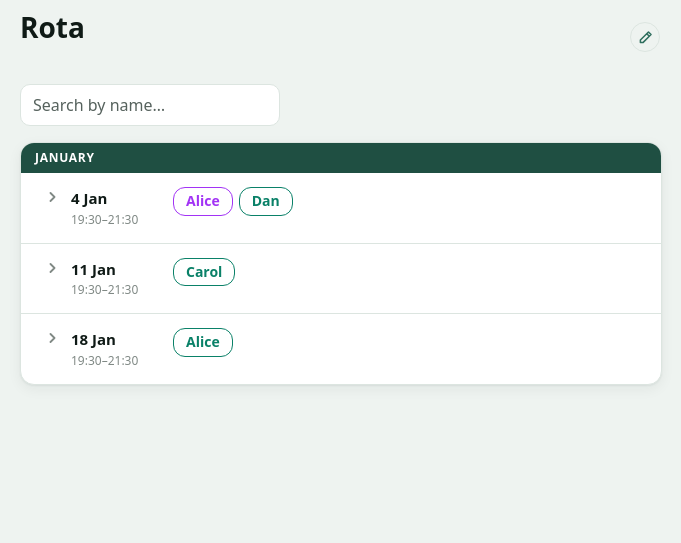
Test: RotaViewer placement › Escape cancels an in-flight pick, taking every destination affordance with it
Click the button named "Edit rota" at (645, 37), box [630,22,660,52]
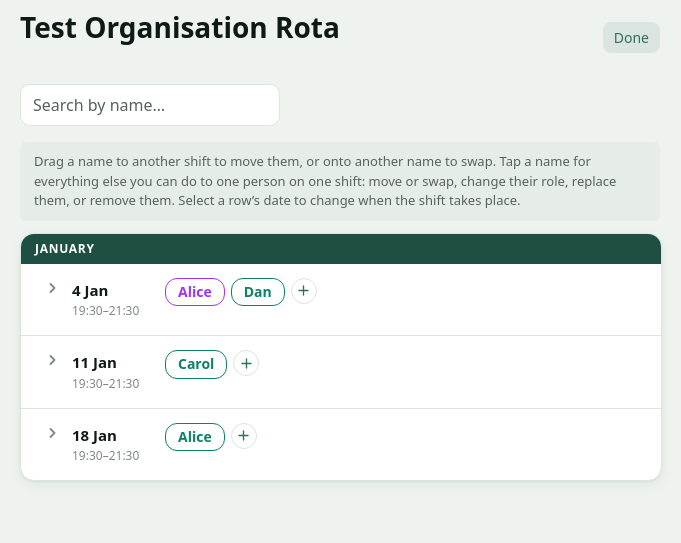
Click the button with aria-label "Alice, change this shift" at (195, 292), box [165,278,225,306]
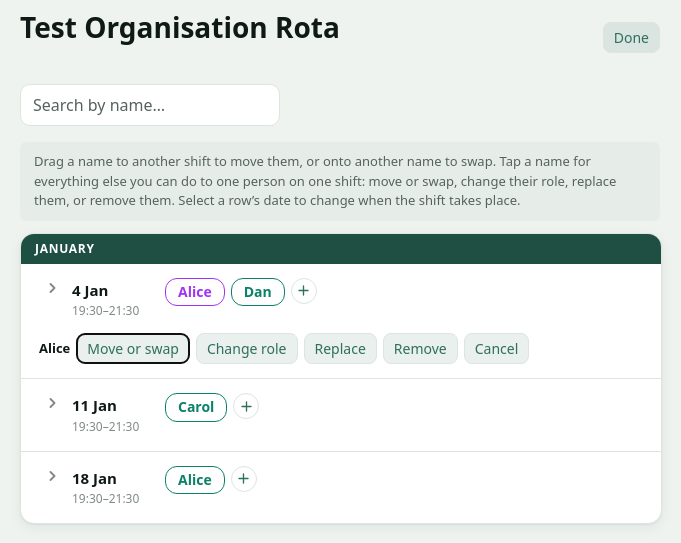
Click the button "Move or swap" at (133, 348), box [76,333,190,364]
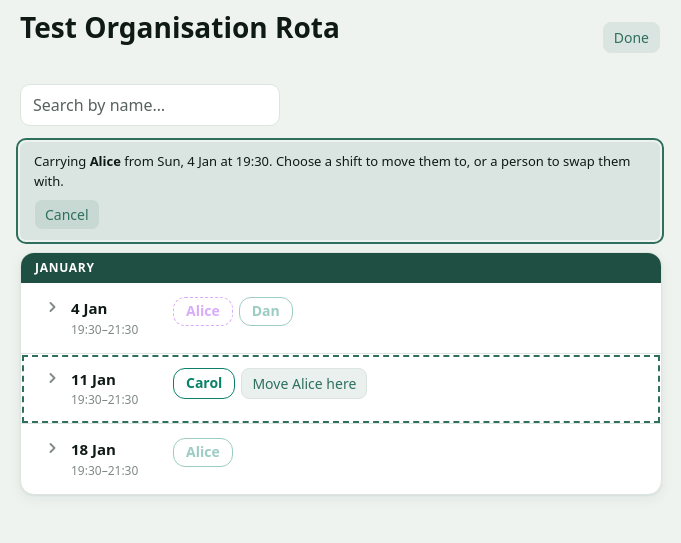
Expected: the text "Carrying" is shown, [34,152,90,170]
Expected: the button "Move Alice here" is shown, [241,368,367,398]
Press Escape
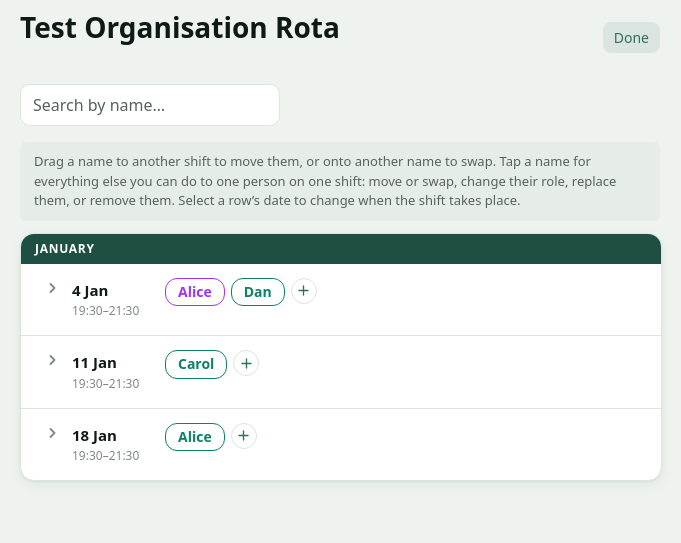
Expected: the text "Carrying" is gone
Expected: the button "Move Alice here" is gone
